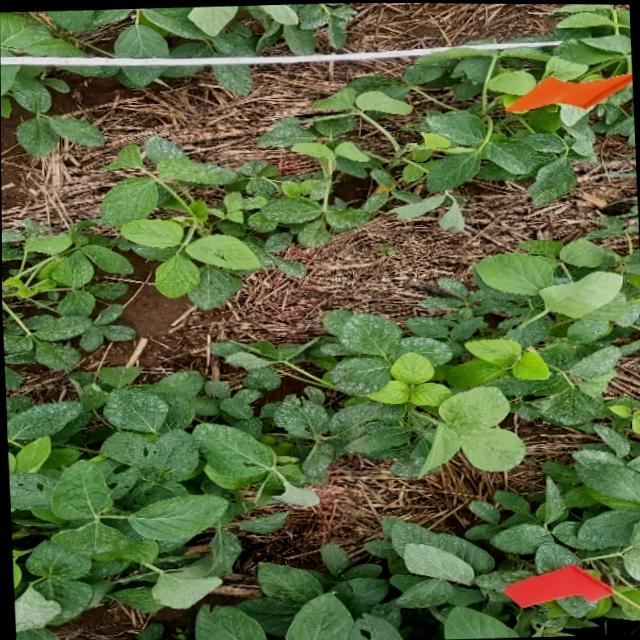soy_plant: (5, 235, 640, 640), (1, 3, 631, 366), (0, 5, 256, 55), (0, 65, 101, 154), (114, 3, 279, 55), (248, 2, 349, 51), (591, 81, 635, 142), (66, 66, 192, 86), (188, 4, 237, 35), (214, 64, 250, 92)
